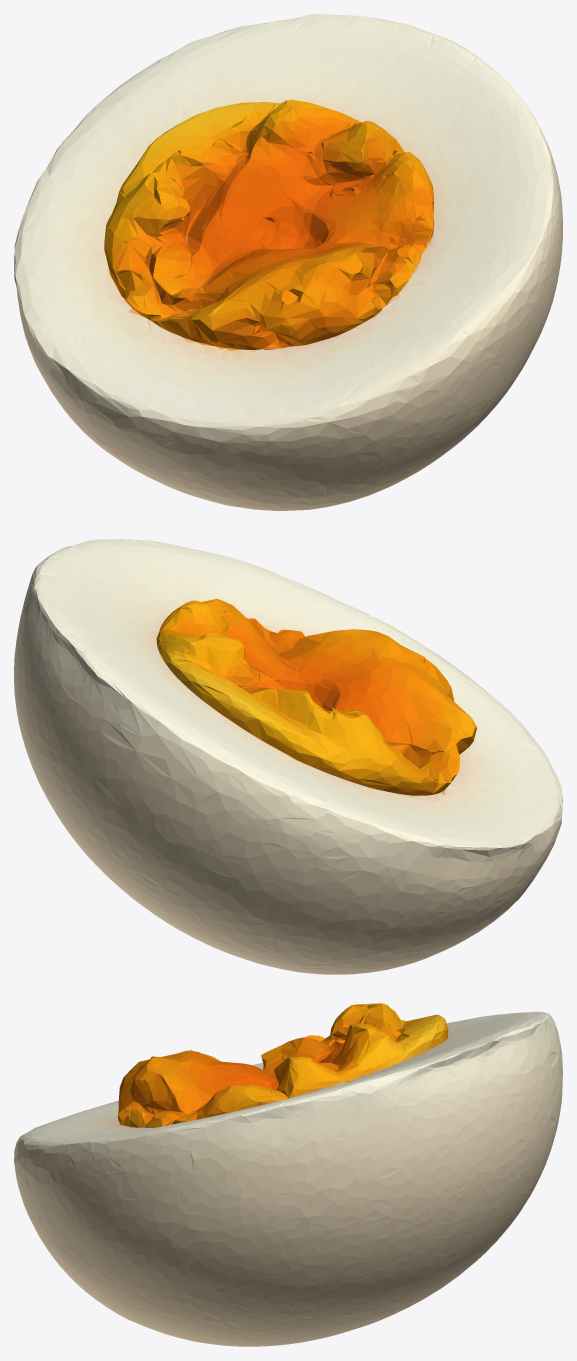
The model's file is egg_jammy.glb.
3 views of the same model, one above another, from view 1: azimuth 30°, elevation 25°; view 2: azimuth 150°, elevation 25°; view 3: azimuth 270°, elevation 25° (orthographic). The views are drawn at different scales.
Parts seen in each view (by area): view 1: geometry_0; view 2: geometry_0; view 3: geometry_0.
Part boxes in pixels (<box>): geometry_0: <box>14,14,562,510</box>; geometry_0: <box>14,539,562,974</box>; geometry_0: <box>14,1003,562,1346</box>.
Bounding box in the file's own units: 0.075 × 0.0539 × 0.0747.
1 material, 1 textured.
